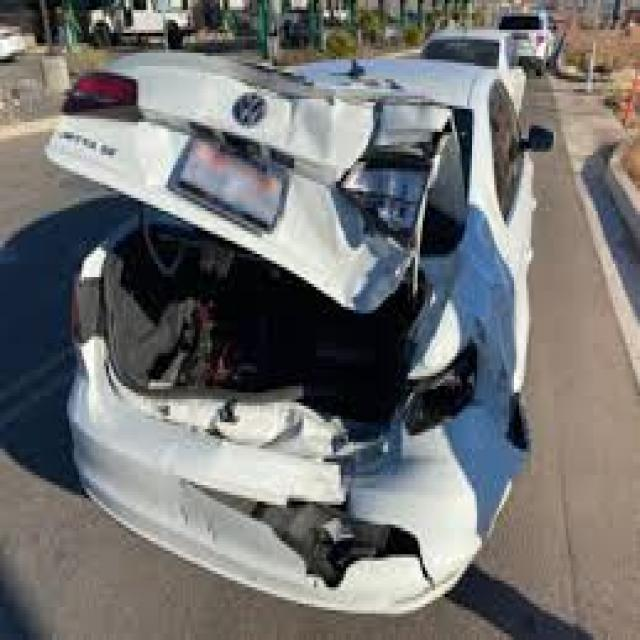damaged-trunk: (70, 68, 428, 412)
